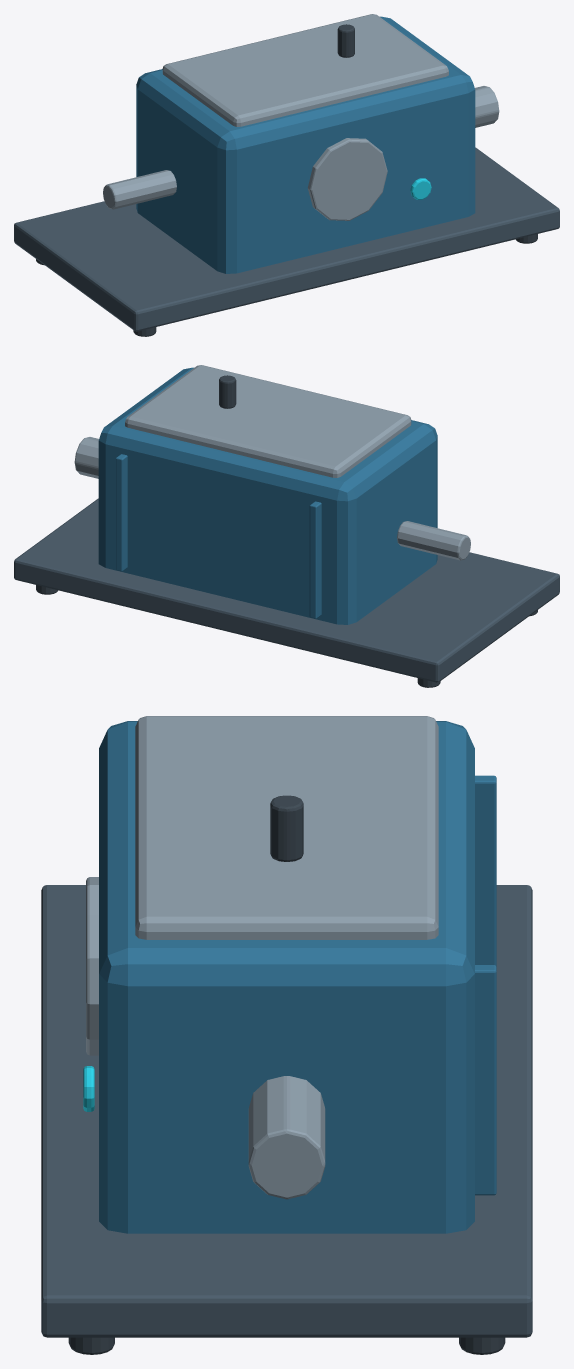
The model's file is grate-gearbox-lod2.glb.
3 views of the same model, one above another, from view 1: azimuth 30°, elevation 25°; view 2: azimuth 150°, elevation 25°; view 3: azimuth 270°, elevation 25° (orthographic). The views are drawn at different scales.
Parts seen in each view (by area): view 1: gearbox_housing, drive_base, gearbox_top_cover, gearbox_inspection_cover, gearbox_input_shaft, gearbox_output_shaft, gearbox_breather; view 2: gearbox_housing, drive_base, gearbox_top_cover, gearbox_input_shaft, gearbox_cooling_rib_00, gearbox_cooling_rib_01, gearbox_output_shaft, gearbox_breather; view 3: gearbox_housing, drive_base, gearbox_top_cover, gearbox_output_shaft, gearbox_cooling_rib_01, gearbox_cooling_rib_00, gearbox_inspection_cover, gearbox_breather.
Part boxes in pixels (bbox=[...]): gearbox_housing: bbox=[136, 16, 475, 273]; drive_base: bbox=[14, 147, 559, 331]; gearbox_top_cover: bbox=[162, 14, 448, 126]; gearbox_inspection_cover: bbox=[307, 138, 387, 220]; gearbox_input_shaft: bbox=[103, 170, 176, 209]; gearbox_output_shaft: bbox=[475, 86, 499, 127]; gearbox_breather: bbox=[337, 24, 354, 57]; gearbox_housing: bbox=[98, 367, 437, 624]; drive_base: bbox=[14, 498, 559, 682]; gearbox_top_cover: bbox=[125, 365, 411, 477]; gearbox_input_shaft: bbox=[397, 521, 470, 560]; gearbox_cooling_rib_00: bbox=[309, 501, 321, 618]; gearbox_cooling_rib_01: bbox=[116, 454, 127, 571]; gearbox_output_shaft: bbox=[74, 437, 98, 478]; gearbox_breather: bbox=[219, 375, 236, 408]; gearbox_housing: bbox=[99, 721, 474, 1233]; drive_base: bbox=[41, 885, 532, 1337]; gearbox_top_cover: bbox=[135, 716, 438, 939]; gearbox_output_shaft: bbox=[248, 1076, 325, 1199]; gearbox_cooling_rib_01: bbox=[475, 965, 496, 1195]; gearbox_cooling_rib_00: bbox=[475, 775, 496, 966]; gearbox_inspection_cover: bbox=[86, 877, 98, 1055]; gearbox_breather: bbox=[270, 795, 303, 861].
Size of the model in its own units: 6.8 by 3.18 by 3.4.
